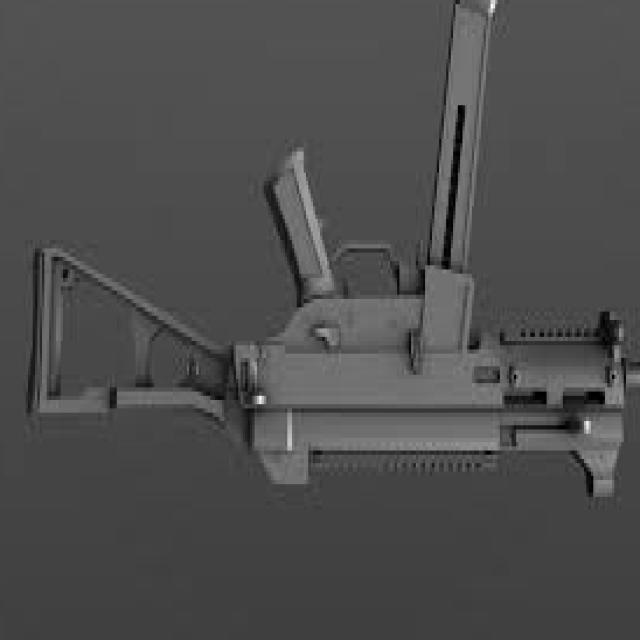Gun: (17, 0, 640, 527)
